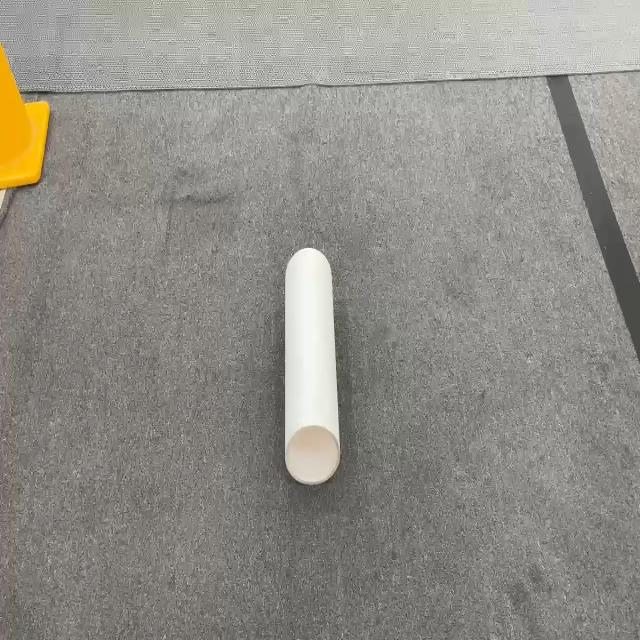coral: (283, 246, 341, 484)
